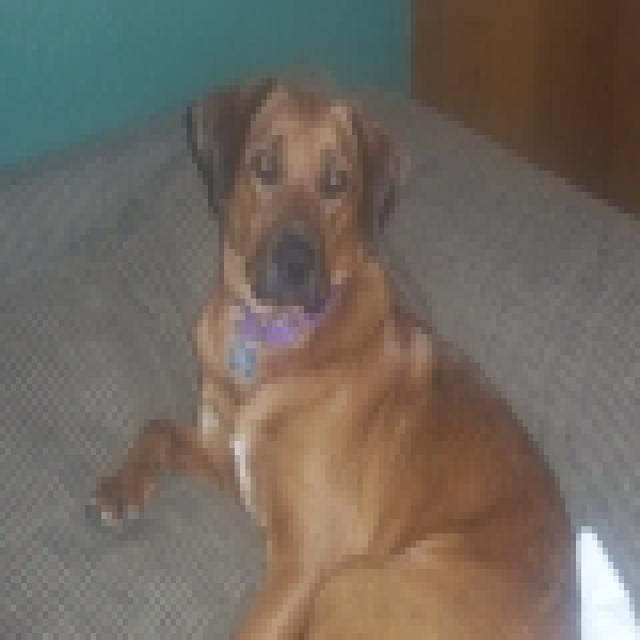Dogs: (86, 71, 582, 633)
